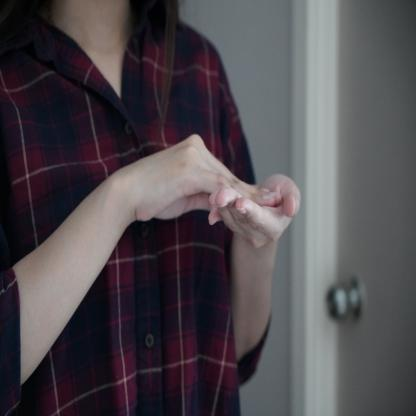Love: (101, 127, 305, 282)
